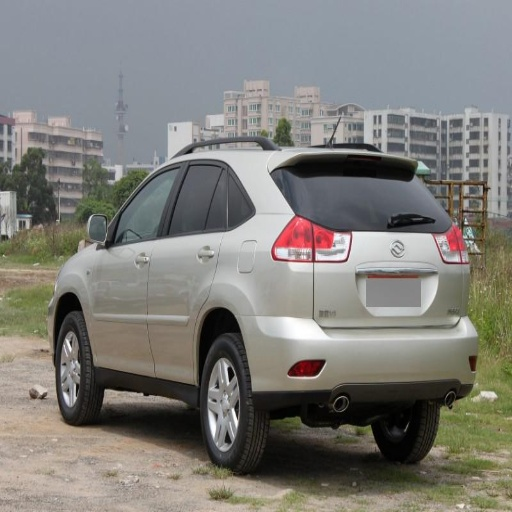_background_: (244, 298, 479, 408)
back_bumper: (270, 159, 449, 230)
back_glass: (148, 159, 226, 382)
back_left_door: (272, 224, 316, 264)
front_glass: (90, 161, 183, 374)
right_mirror: (405, 287, 434, 322)
tailgate: (313, 228, 465, 325)
trunk: (199, 333, 265, 472), (57, 311, 101, 425), (373, 408, 435, 461)
